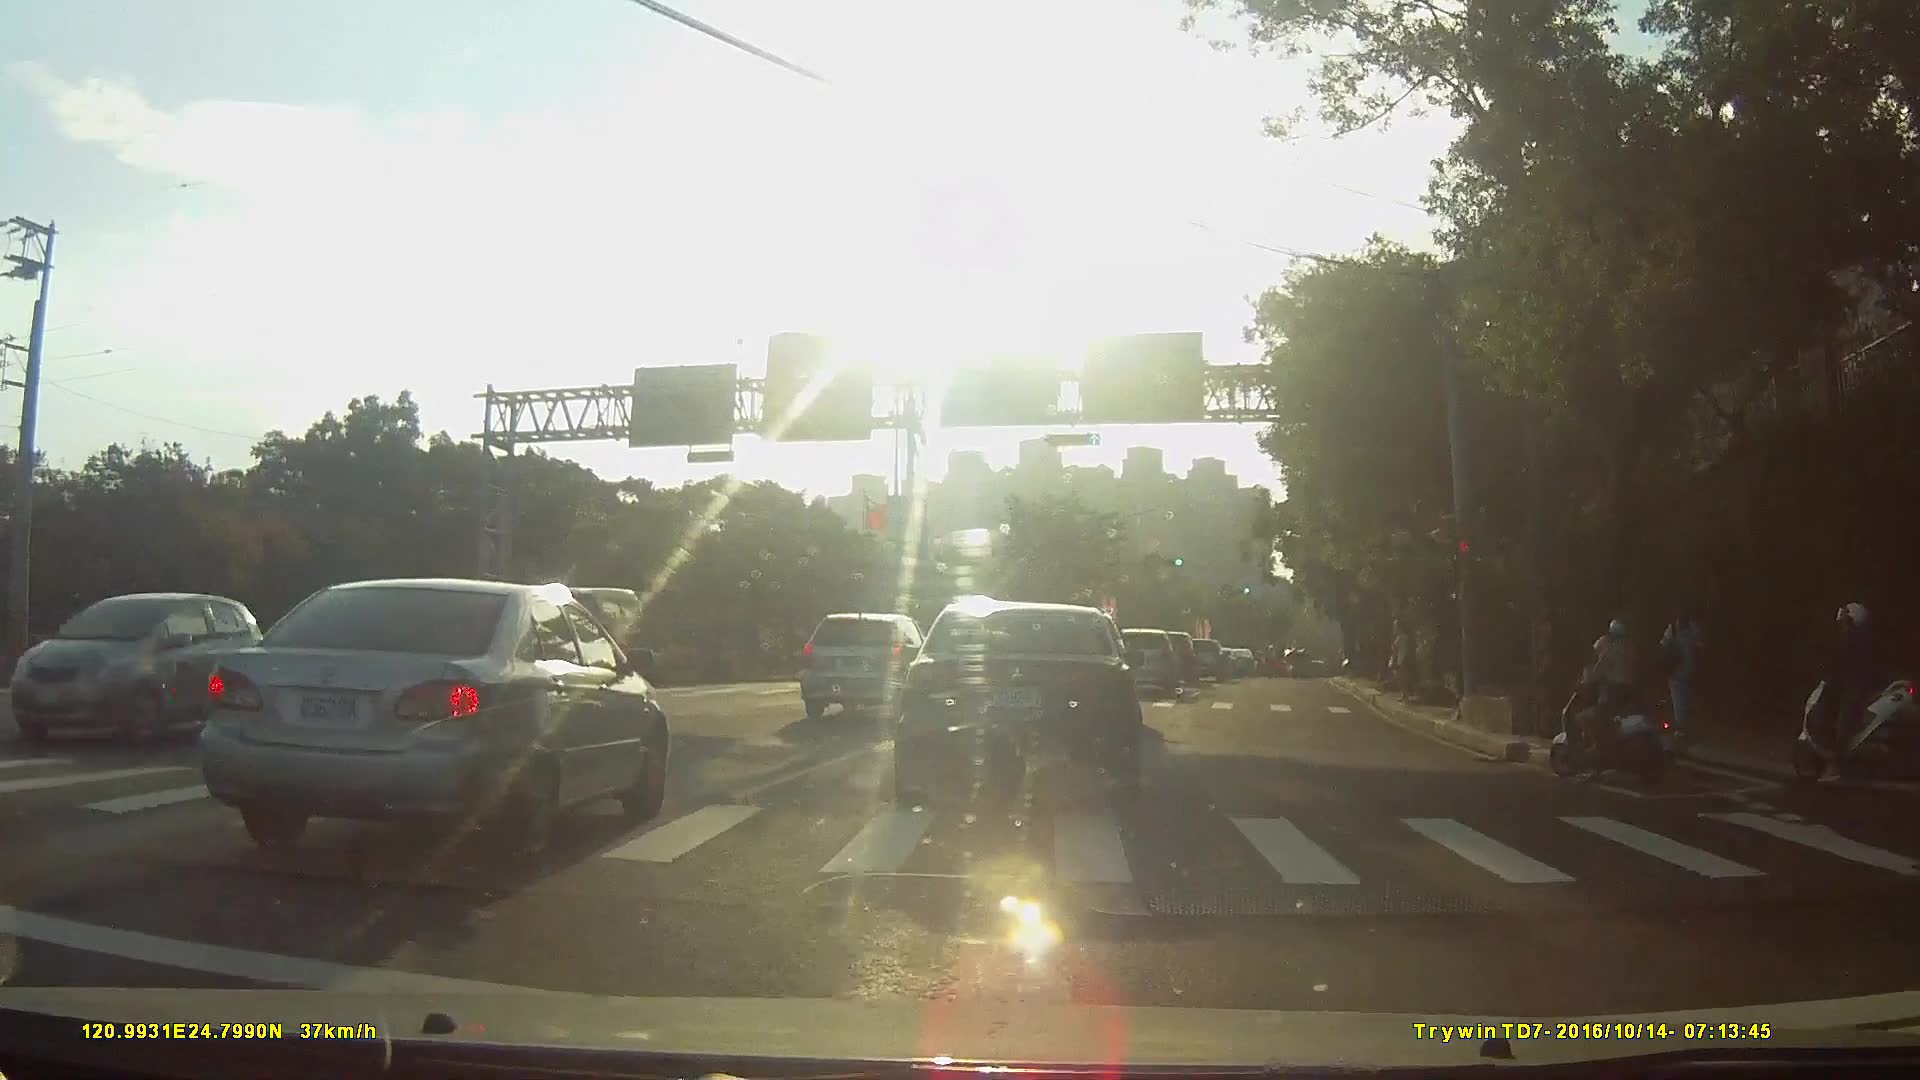pedestrian: (1653, 589, 1708, 737)
rider: (1555, 612, 1693, 785), (1791, 597, 1910, 789)
vehicle: (181, 574, 669, 865), (890, 595, 1141, 809), (21, 586, 247, 756), (466, 580, 645, 703), (797, 607, 944, 718), (1105, 625, 1179, 695), (1137, 626, 1199, 684), (1175, 634, 1225, 678), (1220, 647, 1257, 675)
